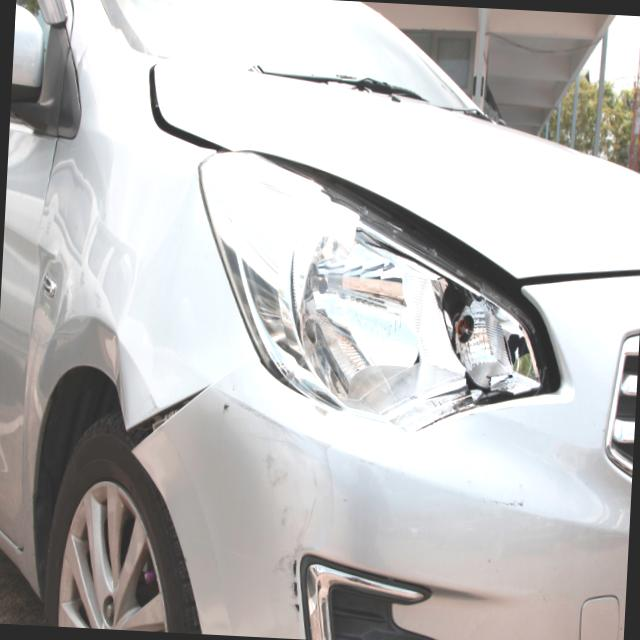Dechirure: (117, 375, 212, 480)
Phare abime: (310, 200, 572, 436)
Rayure: (251, 403, 354, 590)
